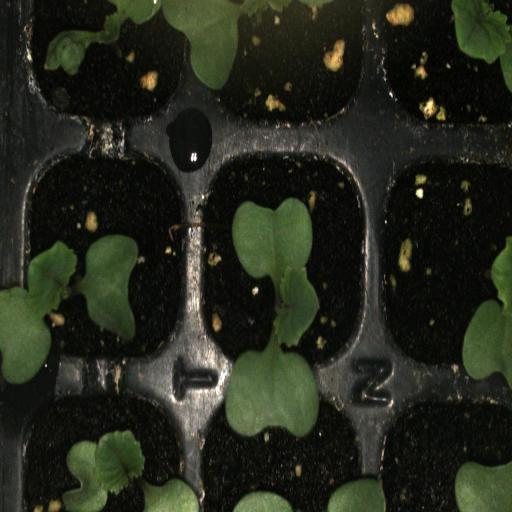Folha: (46, 0, 377, 90), (462, 236, 512, 386), (63, 430, 145, 512), (76, 234, 139, 339), (455, 461, 512, 512), (144, 478, 203, 512), (326, 479, 386, 512)
Germinacao: (11, 142, 196, 377), (195, 140, 371, 370), (12, 374, 195, 512)
